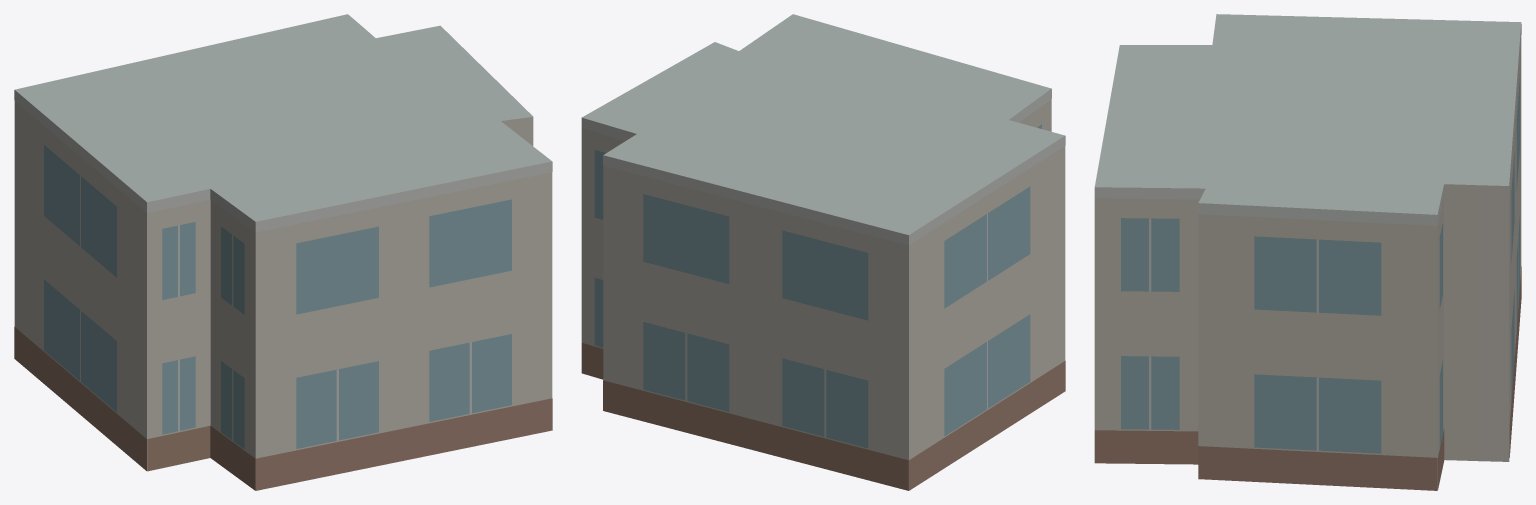
The model's file is survey-upis-32511033.glb.
The picture shows the model from 3 angles, left to right: view 1: azimuth 30°, elevation 25°; view 2: azimuth 150°, elevation 25°; view 3: azimuth 270°, elevation 25°; orthographic projection. The views are drawn at different scales.
Visible parts, largest first — view 1: survey-upis-32511033.tmp; view 2: survey-upis-32511033.tmp; view 3: survey-upis-32511033.tmp.
Boxes of the visible parts, box(x1,y1,x2,y2) form: survey-upis-32511033.tmp: box(14, 14, 552, 490); survey-upis-32511033.tmp: box(581, 14, 1065, 490); survey-upis-32511033.tmp: box(1094, 14, 1521, 490).
Bounding box in the file's own units: 9.53 × 6.1 × 8.56.
